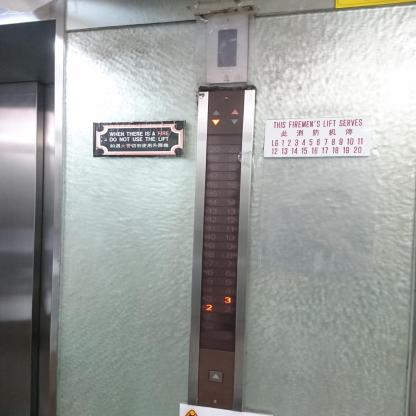1: (199, 311, 217, 322)
10: (202, 231, 219, 242), (222, 232, 239, 243)
11: (202, 223, 219, 234), (222, 223, 239, 234)
12: (202, 214, 220, 225), (222, 214, 240, 225)
13: (203, 205, 220, 216), (222, 206, 240, 216)
14: (203, 196, 221, 208), (223, 196, 240, 208)
15: (223, 188, 240, 199), (203, 188, 221, 198)
16: (204, 179, 221, 190), (223, 180, 241, 190)
17: (204, 170, 222, 181), (224, 171, 241, 181)
18: (204, 162, 223, 172), (224, 162, 241, 172)
19: (205, 152, 222, 164), (224, 153, 242, 163)
2: (219, 303, 237, 316), (200, 302, 216, 313)
20: (225, 143, 242, 155), (205, 144, 221, 154)
3: (220, 294, 237, 306), (200, 292, 216, 304)
4: (220, 285, 237, 297), (200, 283, 216, 295)
5: (220, 275, 238, 288), (200, 275, 217, 286)
6: (200, 266, 218, 278), (220, 267, 238, 279)
7: (220, 258, 238, 270), (201, 258, 217, 268)
8: (221, 249, 238, 261), (201, 249, 217, 259)
9: (221, 240, 239, 252), (202, 240, 219, 251)
G: (198, 320, 216, 332)
up: (208, 369, 224, 383)
